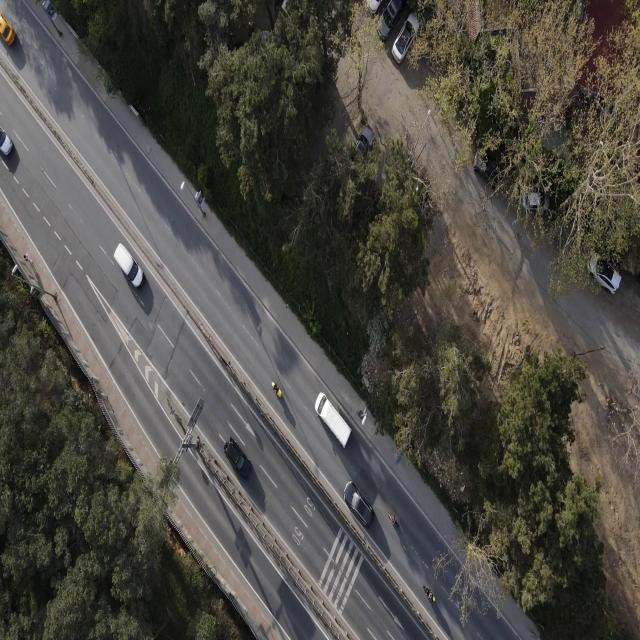p3rson: (23, 252, 34, 266)
